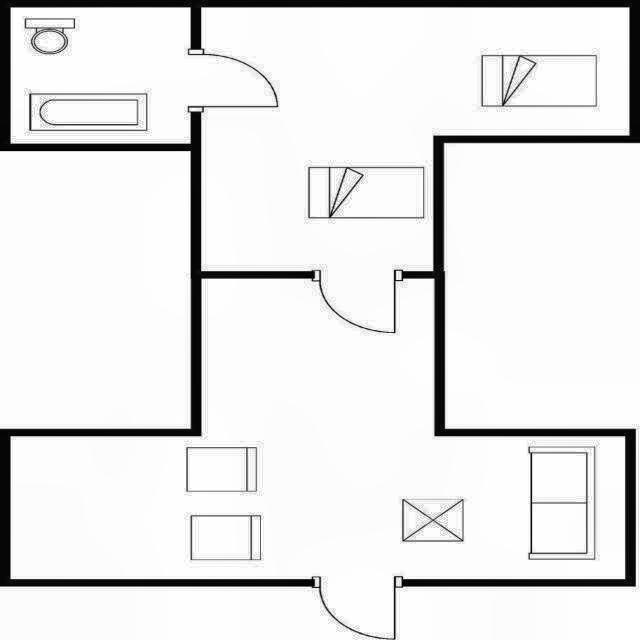room: (11, 279, 625, 579), (201, 7, 630, 271), (11, 7, 191, 144)
